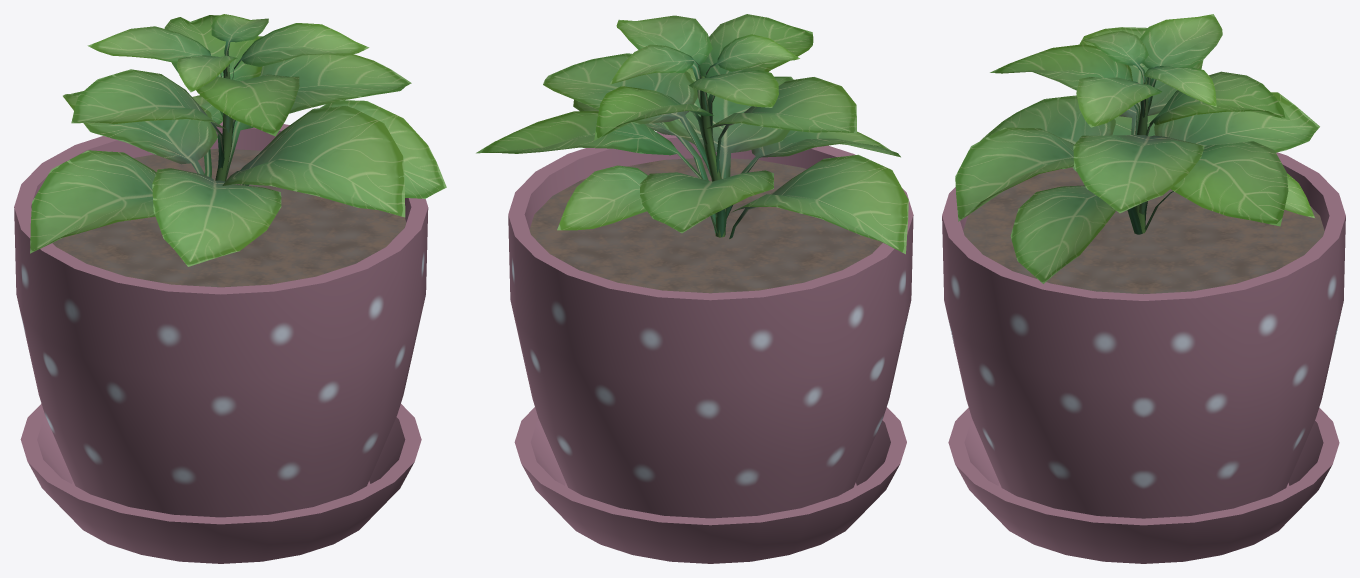
Rendered from small pot plant.glb.
3 renders of one model, left to right at view 1: azimuth 30°, elevation 25°; view 2: azimuth 150°, elevation 25°; view 3: azimuth 270°, elevation 25°, orthographic. The views are drawn at different scales.
Visible parts, largest first — view 1: Pot.001_pot1_0, Basil_B.002_plant_0; view 2: Pot.001_pot1_0, Basil_B.002_plant_0; view 3: Pot.001_pot1_0, Basil_B.002_plant_0.
Part boxes in pixels (x1,y1,x2,y2): Pot.001_pot1_0: [14, 122, 428, 563]; Basil_B.002_plant_0: [30, 14, 446, 266]; Pot.001_pot1_0: [508, 132, 913, 563]; Basil_B.002_plant_0: [476, 14, 908, 254]; Pot.001_pot1_0: [942, 152, 1345, 563]; Basil_B.002_plant_0: [955, 14, 1319, 283].
Size of the model in its own units: 0.2053 by 0.2401 by 0.1966.
2 materials, 2 textured.
